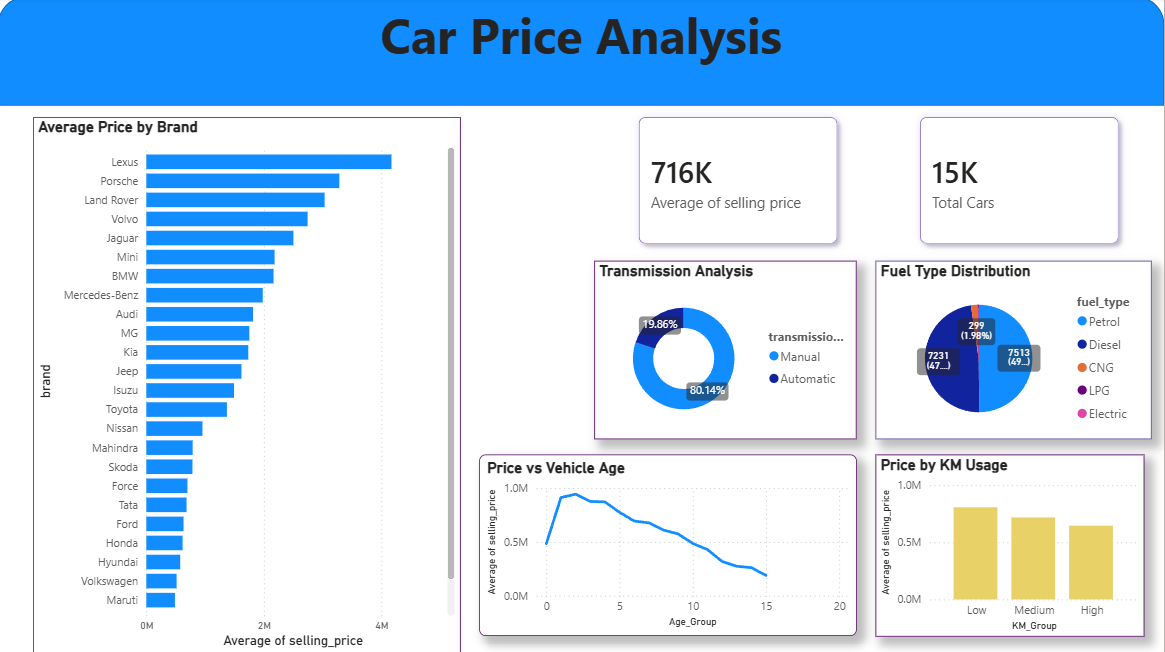

The page's visual inventory and layout, read from the dashboard file:
{"tool":"powerbi","page":{"name":"Page 1","canvas":[1280,720],"ordinal":0},"visuals":[{"type":"cardVisual","fields":{"Data":["CountNonNull(public cars.car_name)"]},"box":[963.3,102.9,317,197.6],"z":0},{"type":"cardVisual","fields":{"Data":["Avg(public cars.selling_price)"]},"box":[654.5,102.9,317,197.6],"z":1000},{"type":"clusteredBarChart","title":"Average Price by Brand","fields":{"Category":["public cars.brand"],"Y":["Avg(public cars.selling_price)"]},"box":[38.4,131.7,469.3,588.7],"z":2000},{"type":"pieChart","title":"Fuel Type Distribution","fields":{"Category":["public cars.fuel_type"],"Y":["CountNonNull(public cars.car_name)"]},"box":[963.3,289.5,303.3,196.2],"z":3000},{"type":"donutChart","title":"Transmission Analysis","fields":{"Category":["public cars.transmission_type"],"Y":["CountNonNull(public cars.car_name)"]},"box":[654.5,289.5,288.2,196.2],"z":4000},{"type":"lineChart","title":"Price vs Vehicle Age","fields":{"Y":["Avg(public cars.selling_price)"],"Category":["public cars.Age_Group"]},"box":[528.3,502.2,414.4,199],"z":5000},{"type":"columnChart","title":"Price by KM Usage","fields":{"Category":["public cars.KM_Group"],"Y":["Avg(public cars.selling_price)"]},"box":[963.3,502.2,295,200.3],"z":6000},{"type":"shape","box":[0,0,1280.3,119.4],"z":6001},{"type":"textbox","box":[0,0,1280.3,102.9],"z":6002}]}

Visuals, with their boxes in screenshot pixels (x1, y1, x2, y2), scaled from the page's 1280x720 canvas onto the 1165x652 screenshot:
cardVisual - CountNonNull(public cars.car_name): region(877, 93, 1164, 272)
cardVisual - Avg(public cars.selling_price): region(596, 93, 884, 272)
"Average Price by Brand" clusteredBarChart: region(35, 119, 462, 651)
"Fuel Type Distribution" pieChart: region(877, 262, 1153, 440)
"Transmission Analysis" donutChart: region(596, 262, 858, 440)
"Price vs Vehicle Age" lineChart: region(481, 455, 858, 635)
"Price by KM Usage" columnChart: region(877, 455, 1145, 636)
shape: region(0, 0, 1164, 108)
textbox: region(0, 0, 1164, 93)
